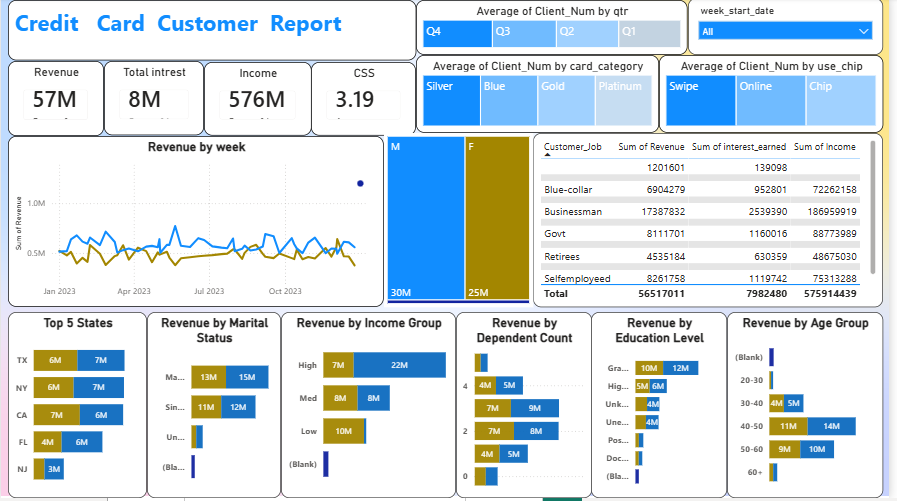

The dashboard page shown, as its layout file describes it:
{"tool":"powerbi","page":{"name":"Page 2","canvas":[1280,720],"ordinal":2},"visuals":[{"type":"textbox","box":[10.1,3.4,587.9,87.3],"z":0},{"type":"barChart","title":" Revenue by Income Group","fields":{"Y":["Sum(public cc_detail.Revenue)"],"Category":["Cust_new.IncomeGroup"],"Series":["Cust_new.Gender"]},"box":[403.2,452.2,252,267.8],"z":1000},{"type":"tableEx","fields":{"Values":["Cust_new.Customer_Job","Sum(public cc_detail.Revenue)","Sum(public cc_detail.interest_earned)","Sum(Cust_new.Income)"]},"box":[766.1,194.4,504,250.6],"z":2000},{"type":"cardVisual","title":"Revenue","fields":{"Data":["Sum(public cc_detail.Revenue)"]},"box":[10.1,90.7,137.7,107.5],"z":3000},{"type":"cardVisual","title":"Income","fields":{"Data":["Sum(Cust_new.Income)"]},"box":[292.3,92.4,154.5,105.8],"z":4000},{"type":"cardVisual","title":"Total intrest","fields":{"Data":["Sum(public cc_detail.interest_earned)"]},"box":[148.3,90.7,144,106.6],"z":5000},{"type":"cardVisual","title":"CSS","fields":{"Data":["Avg(Cust_new.Cust_Satisfaction_Score)"]},"box":[446.8,92.4,151.2,105.8],"z":6000},{"type":"slicer","fields":{"Values":["public cc_detail.week_start_date"]},"box":[989.3,0,280.8,82.1],"z":7000},{"type":"treemap","fields":{"Group":["public cc_detail.qtr"],"Values":["Avg(Cust_new.Client_Num)"]},"box":[597.4,3.3,391.2,78.6],"z":8000},{"type":"treemap","fields":{"Group":["public cc_detail.card_category"],"Values":["Avg(Cust_new.Client_Num)"]},"box":[597.6,82.1,349.9,112.3],"z":9000},{"type":"lineChart","title":" Revenue by week","fields":{"Y":["Sum(public cc_detail.Revenue)"],"Series":["Cust_new.Gender"],"Category":["public cc_detail.week_start_date"]},"box":[10.1,198.7,541.4,246.2],"z":10000},{"type":"treemap","fields":{"Group":["Cust_new.Gender"],"Values":["Sum(public cc_detail.Revenue)"]},"box":[551.5,194.4,214.6,250.6],"z":11000},{"type":"barChart","title":" Revenue by Age Group","fields":{"Y":["Sum(public cc_detail.Revenue)"],"Category":["Cust_new.AgeGroup"],"Series":["Cust_new.Gender"]},"box":[1045.4,452.2,224.6,267.8],"z":12000},{"type":"barChart","title":" Revenue by Dependent Count","fields":{"Y":["Sum(public cc_detail.Revenue)"],"Category":["Cust_new.Dependent_Count"],"Series":["Cust_new.Gender"]},"box":[655.2,452.2,195.8,267.8],"z":13000},{"type":"barChart","title":" Revenue by Education Level","fields":{"Y":["Sum(public cc_detail.Revenue)"],"Category":["Cust_new.Education_Level"],"Series":["Cust_new.Gender"]},"box":[849.6,452.2,195.8,267.8],"z":14000},{"type":"barChart","title":"Top 5 States","fields":{"Y":["Sum(public cc_detail.Revenue)"],"Category":["Cust_new.state_cd"],"Series":["Cust_new.Gender"]},"box":[10.1,452.2,200.2,267.8],"z":15000},{"type":"barChart","title":" Revenue by Marital Status","fields":{"Y":["Sum(public cc_detail.Revenue)"],"Category":["Cust_new.Marital_Status"],"Series":["Cust_new.Gender"]},"box":[210.2,452.2,193,267.8],"z":16000},{"type":"treemap","fields":{"Group":["public cc_detail.use_chip"],"Values":["Avg(Cust_new.Client_Num)"]},"box":[947.5,82.1,322.6,112.3],"z":17000}]}

Visuals, with their boxes in screenshot pixels (x1, y1, x2, y2), scaled from the page's 1280x720 canvas onto the 897x501 screenshot:
textbox: 7:2:419:63
" Revenue by Income Group" barChart: 283:315:459:500
tableEx - Cust_new.Customer_Job x Sum(public cc_detail.Revenue): 537:135:890:310
"Revenue" cardVisual: 7:63:104:138
"Income" cardVisual: 205:64:313:138
"Total intrest" cardVisual: 104:63:205:137
"CSS" cardVisual: 313:64:419:138
slicer - public cc_detail.week_start_date: 693:0:890:57
treemap - public cc_detail.qtr x Avg(Cust_new.Client_Num): 419:2:693:57
treemap - public cc_detail.card_category x Avg(Cust_new.Client_Num): 419:57:664:135
" Revenue by week" lineChart: 7:138:386:310
treemap - Cust_new.Gender x Sum(public cc_detail.Revenue): 386:135:537:310
" Revenue by Age Group" barChart: 733:315:890:500
" Revenue by Dependent Count" barChart: 459:315:596:500
" Revenue by Education Level" barChart: 595:315:733:500
"Top 5 States" barChart: 7:315:147:500
" Revenue by Marital Status" barChart: 147:315:283:500
treemap - public cc_detail.use_chip x Avg(Cust_new.Client_Num): 664:57:890:135
